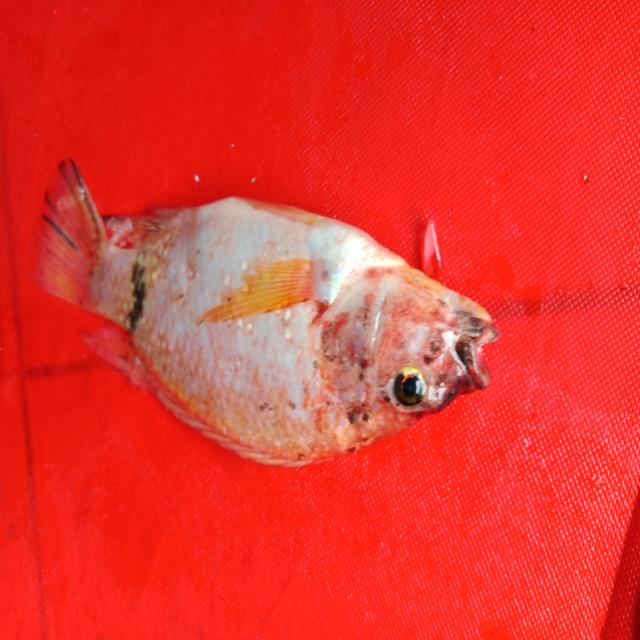ikan: (28, 139, 516, 482)
